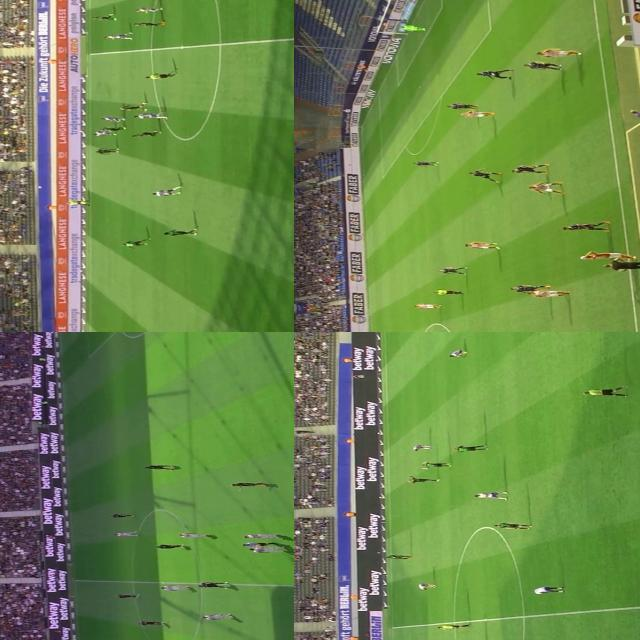ball: (574, 253, 588, 261), (38, 184, 44, 188)
player: (558, 219, 610, 230), (513, 162, 547, 174), (245, 546, 285, 556), (530, 287, 568, 297), (122, 236, 153, 248), (534, 48, 580, 56), (156, 539, 192, 549), (585, 252, 629, 260), (230, 479, 268, 488), (100, 30, 134, 40), (529, 181, 563, 191), (162, 226, 198, 235), (456, 109, 492, 118), (197, 580, 229, 590), (510, 284, 548, 292), (118, 102, 148, 112), (151, 186, 181, 196), (158, 582, 188, 592), (467, 169, 503, 177), (444, 102, 480, 110), (472, 68, 508, 76), (244, 531, 280, 539), (448, 444, 484, 452), (133, 110, 168, 118), (404, 475, 439, 483), (476, 490, 510, 498), (530, 586, 564, 594), (520, 63, 564, 69), (412, 300, 438, 310), (178, 530, 205, 539), (134, 5, 164, 13), (464, 240, 494, 248), (142, 462, 182, 468), (132, 19, 166, 26), (92, 146, 121, 154), (416, 462, 454, 468), (90, 12, 118, 20), (411, 159, 439, 167), (138, 619, 166, 627), (106, 510, 134, 518), (198, 613, 234, 619), (494, 523, 530, 529), (442, 264, 468, 272), (116, 592, 142, 600), (112, 528, 138, 536), (96, 125, 125, 132), (90, 129, 118, 136), (398, 24, 430, 30), (128, 130, 158, 136), (418, 580, 436, 590), (410, 444, 430, 452), (384, 554, 410, 560), (448, 348, 466, 356), (100, 116, 126, 121)
